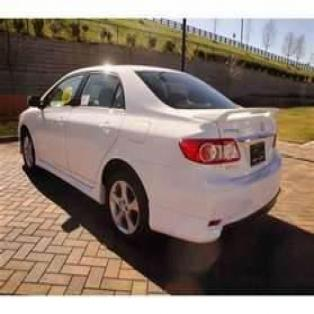Auto: (15, 61, 284, 254)
